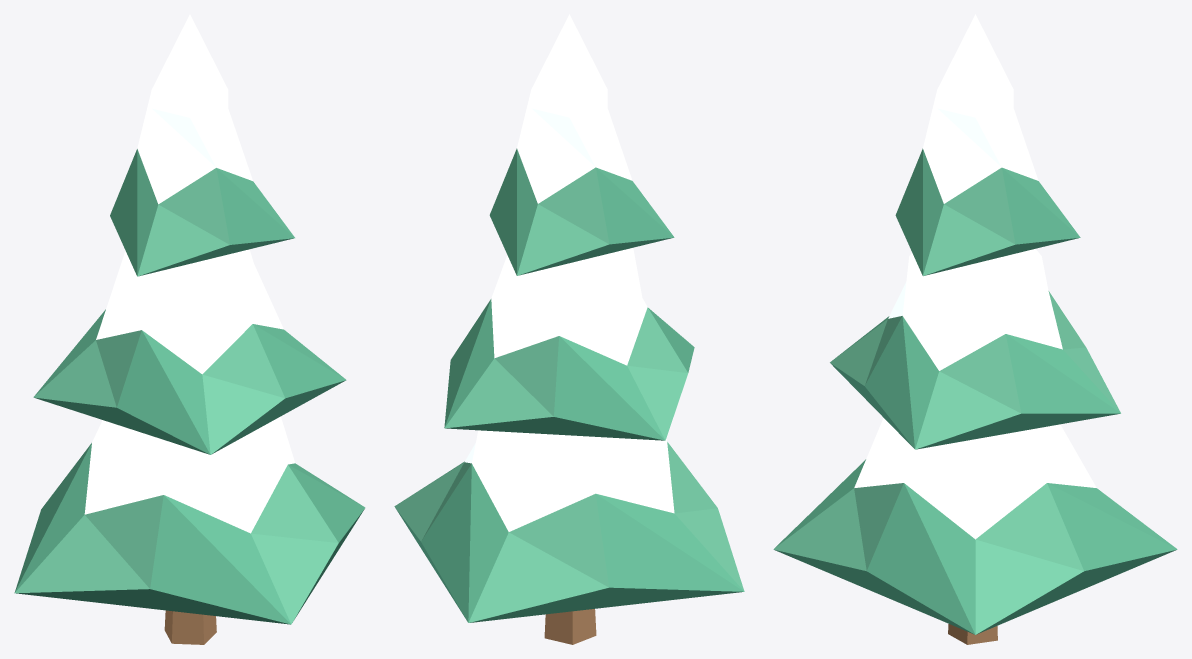
Rendered from snow-pine.glb.
3 renders of one model, left to right at view 1: azimuth 30°, elevation 25°; view 2: azimuth 150°, elevation 25°; view 3: azimuth 270°, elevation 25°, orthographic.
Parts seen in each view (by area): view 1: snow-pine; view 2: snow-pine; view 3: snow-pine.
Boxes of the visible parts, left/top/right/bottom form: snow-pine: left=14, top=14, right=365, bottom=644; snow-pine: left=394, top=14, right=744, bottom=644; snow-pine: left=773, top=14, right=1177, bottom=644.
Size of the model in its own units: 5 by 8.45 by 5.
